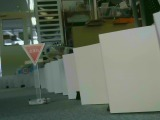stop: (22, 43, 45, 65)
